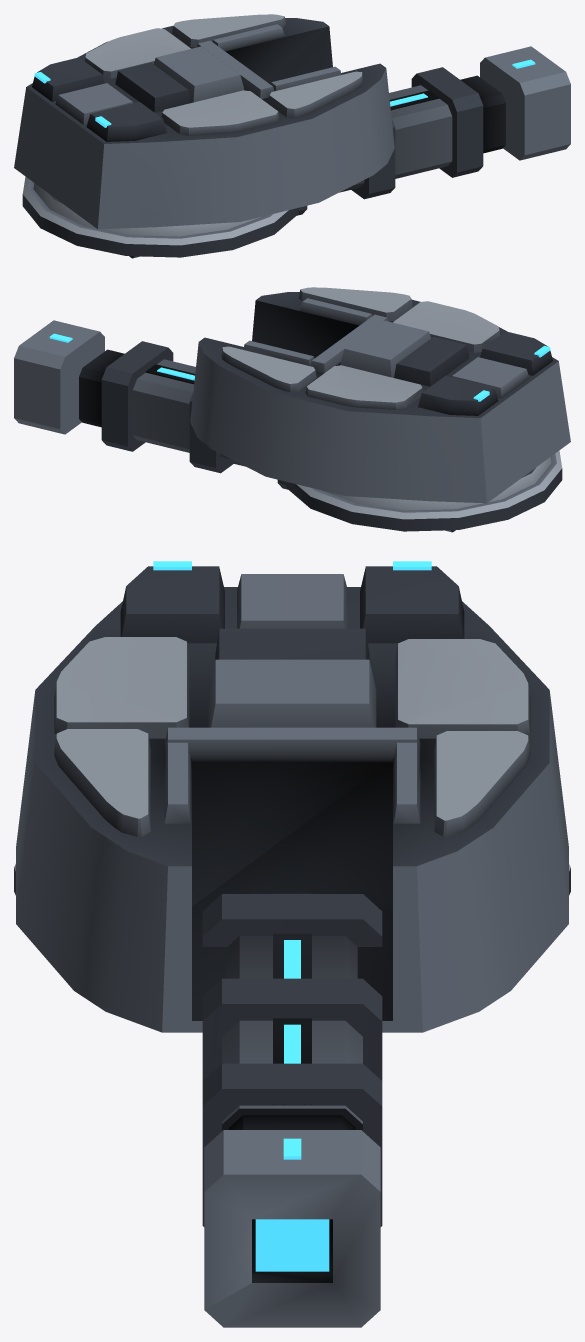
File: tempest1_lod1.glb
3 renders of one model, top to bottom at view 1: azimuth 30°, elevation 25°; view 2: azimuth 150°, elevation 25°; view 3: azimuth 270°, elevation 25°, orthographic. The views are drawn at different scales.
Visible parts, largest first — view 1: housing, barrel, ring; view 2: housing, barrel, ring; view 3: housing, barrel.
Boxes of the visible parts, left/top/right/bottom form: housing: left=14, top=14, right=394, bottom=229; barrel: left=129, top=46, right=570, bottom=258; ring: left=22, top=176, right=299, bottom=257; housing: left=190, top=287, right=570, bottom=503; barrel: left=14, top=320, right=455, bottom=532; ring: left=285, top=450, right=562, bottom=531; housing: left=16, top=561, right=568, bottom=1032; barrel: left=202, top=893, right=382, bottom=1327.
Bounding box in the file's own units: 32.9 × 9.75 × 15.81.
